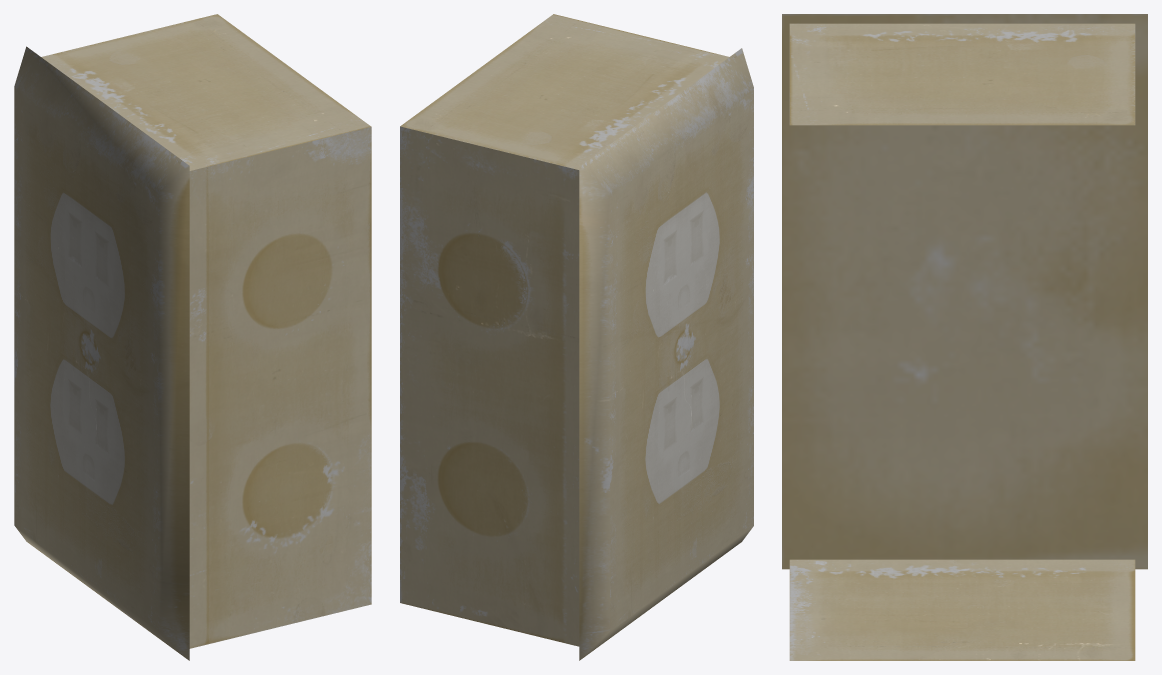
File: SM_Light_Switch_01b.fbx
The picture shows the model from 3 angles, left to right: view 1: azimuth 30°, elevation 25°; view 2: azimuth 150°, elevation 25°; view 3: azimuth 270°, elevation 25°; orthographic projection. The views are drawn at different scales.
Parts seen in each view (by area): view 1: SM_Light_Switch_01b_LOD0; view 2: SM_Light_Switch_01b_LOD0; view 3: SM_Light_Switch_01b_LOD0.
Part boxes in pixels (bbox=[...]): SM_Light_Switch_01b_LOD0: bbox=[14, 14, 371, 660]; SM_Light_Switch_01b_LOD0: bbox=[400, 14, 753, 660]; SM_Light_Switch_01b_LOD0: bbox=[782, 14, 1147, 660].
Size of the model in its own units: 8.55 by 11.7 by 19.59.
